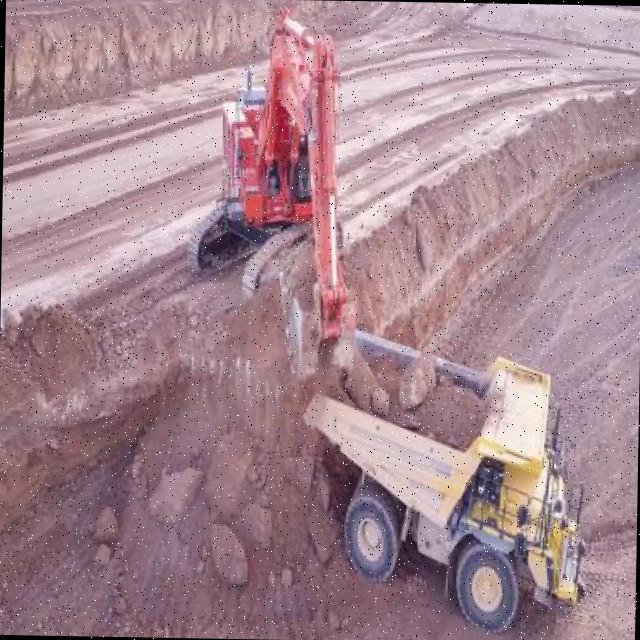Dump Truck: (297, 320, 598, 640)
Excavator: (182, 3, 364, 364)
